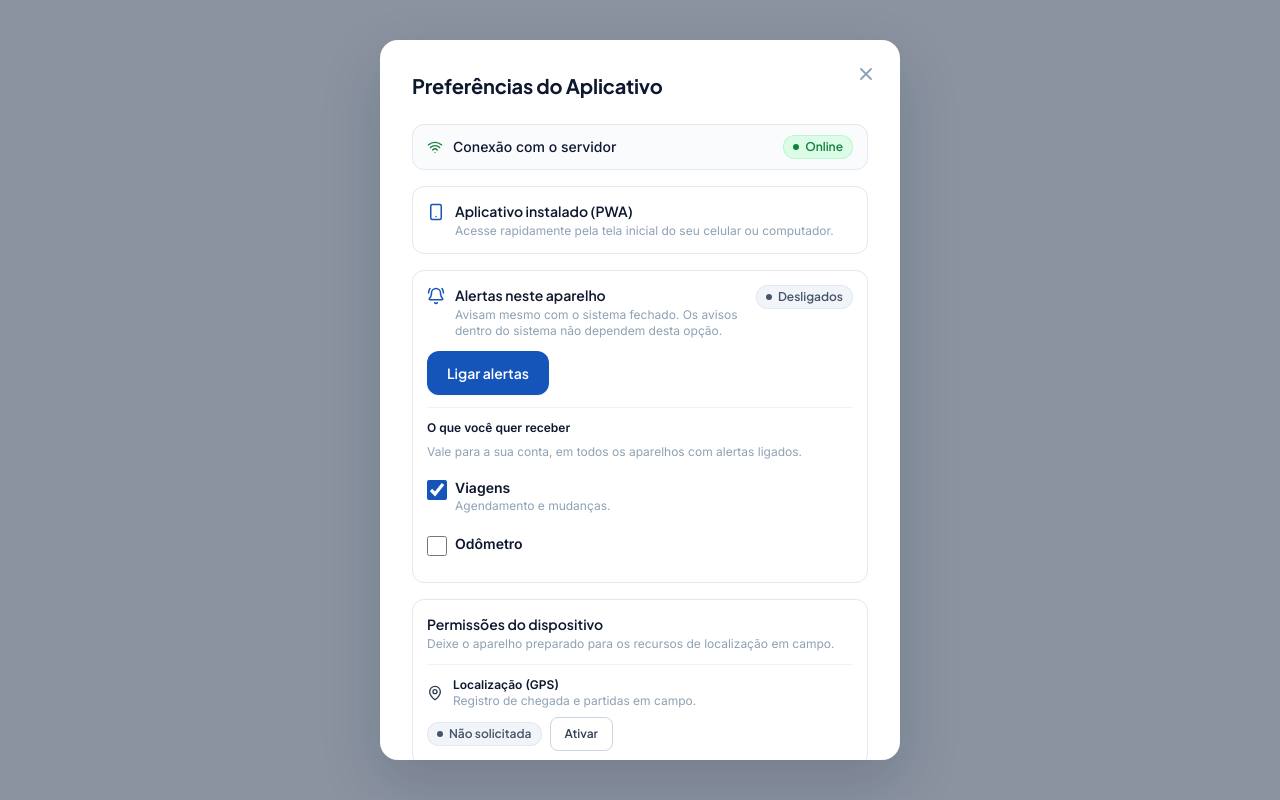
Test: Ligar e desligar neste aparelho › se o servidor recusar (ex.: limite de aparelhos), desfaz no navegador e mostra o motivo
This screenshot has width=1280, height=800.
Step 1. Click the button "Ligar alertas" → point(488, 373), box 427,351 -> 549,395
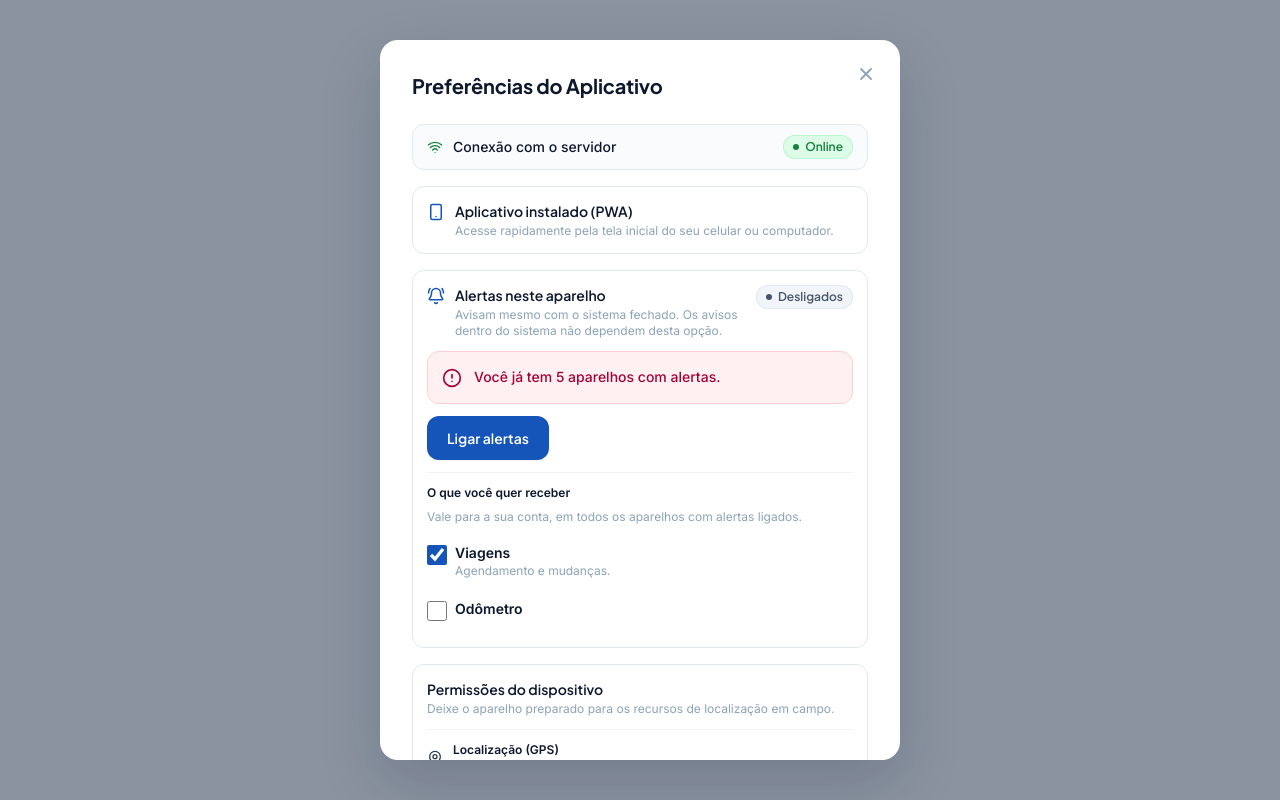
Expected: the text "Desligados" is shown, 756,285 -> 853,309
Result: the text "Você já tem 5 aparelhos com alertas." is shown at 474,368 -> 720,385
